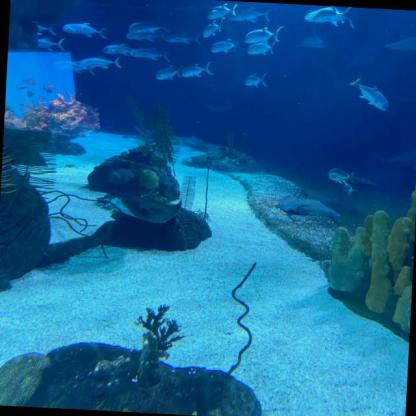fish: (347, 75, 391, 112), (304, 4, 364, 29), (244, 25, 284, 46), (312, 6, 356, 24), (228, 7, 272, 24), (62, 22, 108, 38), (53, 60, 98, 75), (129, 20, 171, 36), (80, 55, 124, 69), (181, 60, 215, 78), (131, 46, 171, 61), (327, 163, 354, 185), (164, 30, 201, 45), (210, 36, 240, 54), (247, 39, 278, 56), (155, 63, 184, 81), (126, 30, 168, 42), (206, 6, 237, 21), (203, 16, 224, 38), (244, 71, 268, 88), (37, 37, 66, 51), (178, 134, 206, 148), (31, 21, 57, 36), (102, 43, 132, 56), (340, 183, 357, 196)
shark: (370, 142, 415, 175), (293, 22, 332, 51), (384, 24, 416, 53)
stingray: (104, 194, 182, 224), (280, 194, 341, 217)
